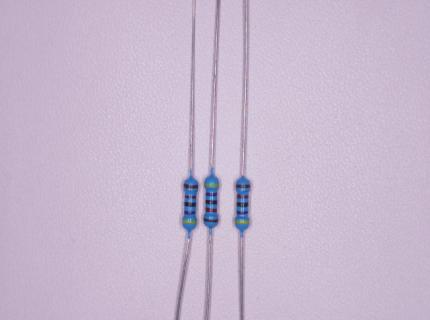Black band: (237, 203, 249, 208), (184, 202, 196, 207), (205, 200, 217, 204), (184, 211, 195, 215)
Brown band: (236, 184, 251, 189), (203, 218, 218, 223), (184, 184, 198, 189)
Red band: (237, 194, 249, 199), (206, 208, 217, 213), (184, 195, 196, 199)
Violet band: (206, 192, 217, 197), (236, 211, 248, 215)
Yellow band: (204, 183, 219, 188), (182, 219, 197, 224), (235, 219, 250, 224)
